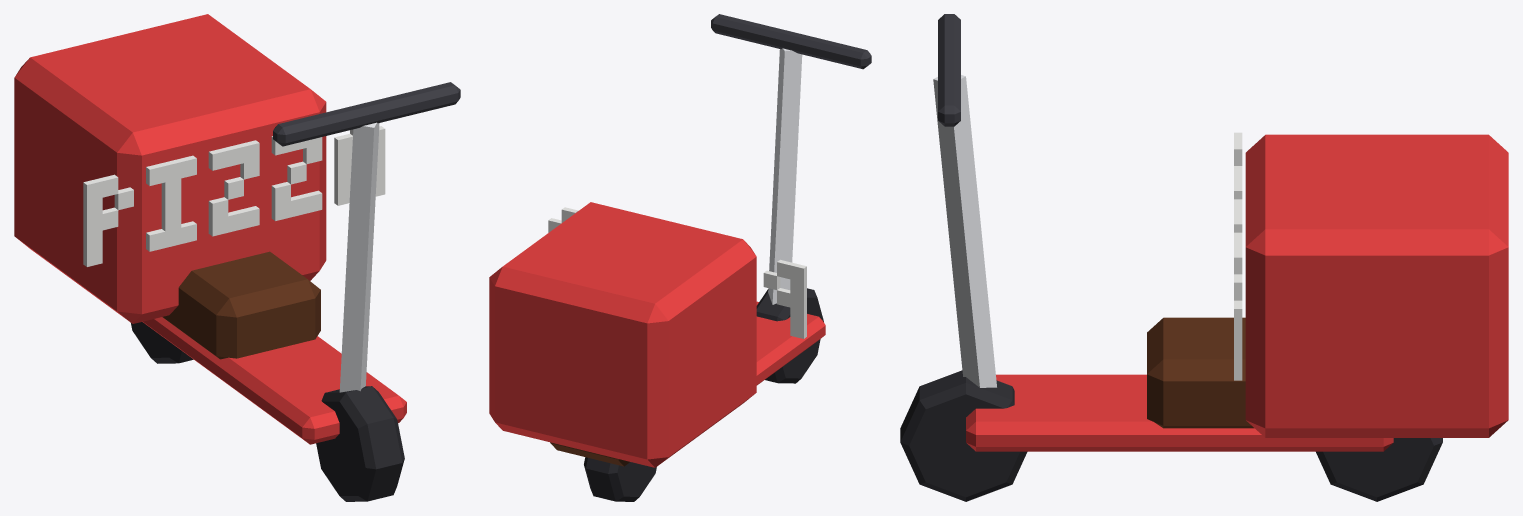
Rendered from DeliveryScooter.fbx.
3 renders of one model, left to right at view 1: azimuth 30°, elevation 25°; view 2: azimuth 150°, elevation 25°; view 3: azimuth 270°, elevation 25°, orthographic. The views are drawn at different scales.
Visible parts, largest first — view 1: DeliveryScooter, DeliveryScooter_WheelF, DeliveryScooter_WheelB; view 2: DeliveryScooter, DeliveryScooter_WheelB, DeliveryScooter_WheelF; view 3: DeliveryScooter, DeliveryScooter_WheelF, DeliveryScooter_WheelB.
Part boxes in pixels (left/top/right/bottom): DeliveryScooter: left=14, top=14, right=460, bottom=444; DeliveryScooter_WheelF: left=316, top=386, right=404, bottom=501; DeliveryScooter_WheelB: left=131, top=322, right=193, bottom=363; DeliveryScooter: left=489, top=14, right=871, bottom=467; DeliveryScooter_WheelB: left=584, top=457, right=656, bottom=501; DeliveryScooter_WheelF: left=756, top=288, right=823, bottom=383; DeliveryScooter: left=933, top=14, right=1508, bottom=451; DeliveryScooter_WheelF: left=900, top=370, right=1027, bottom=501; DeliveryScooter_WheelB: left=1316, top=438, right=1442, bottom=501.
Size of the model in its own units: 2.28 by 2.92 by 3.7.
1 material, 1 textured.
